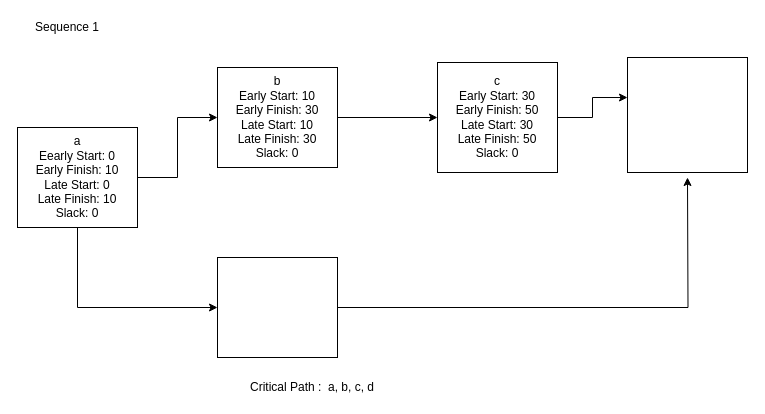
Image size: 765x414. Some labels were removed from this diagram. Here are the shapes that lost their labels. From the top down, the centre of each, then its label:
the point at 687,114: d Early Start: 50 Early Finish: 60 Late Start: 50 Late Finish: 60 Slack: 0
the point at 277,307: e Early Start: 10 Early Finish: 45 Late Start: 15 Late Finish: 50 Slack = 0
